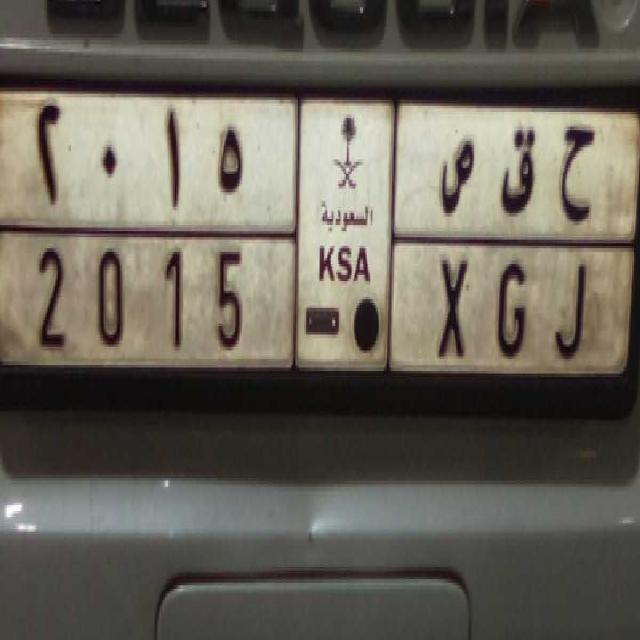license_plate: (12, 221, 618, 400)
